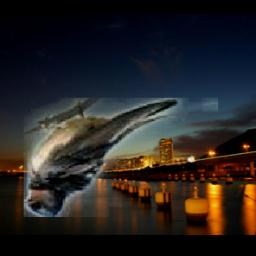Swallow: (24, 98, 218, 217)
